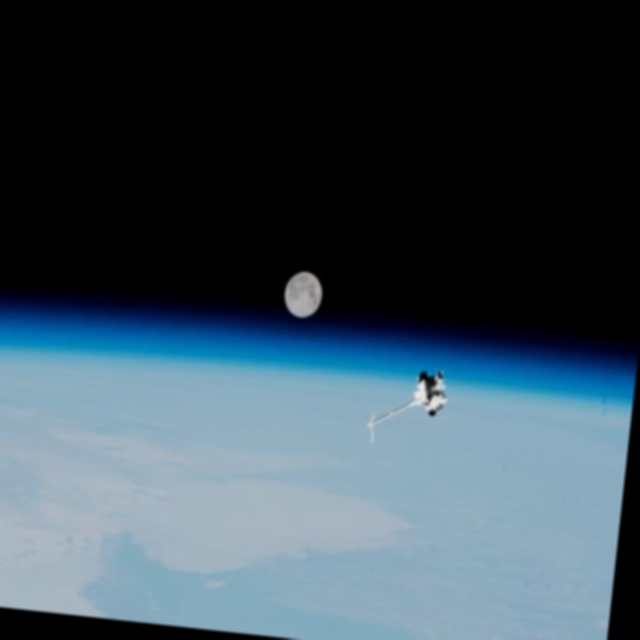satellite: (355, 354, 476, 457)
